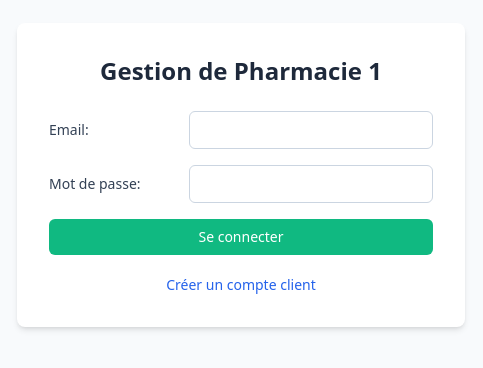
Test case: LoginPage › affiche des erreurs de validation si le formulaire est vide
Click the button "Se connecter": [241, 237] box [49, 219, 433, 255]
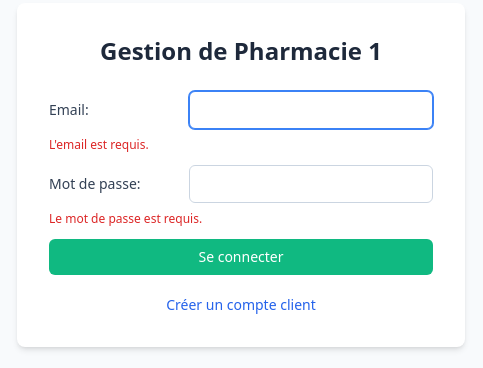
Now the text "L'email est requis." is shown, box [49, 136, 149, 153]
